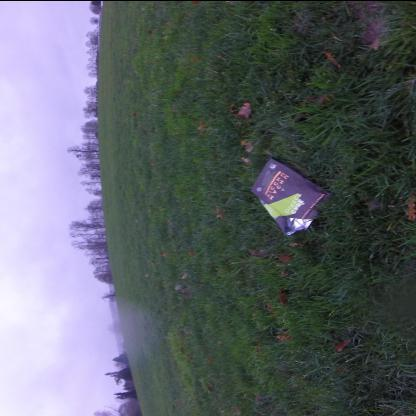diger: (252, 158, 334, 236)
